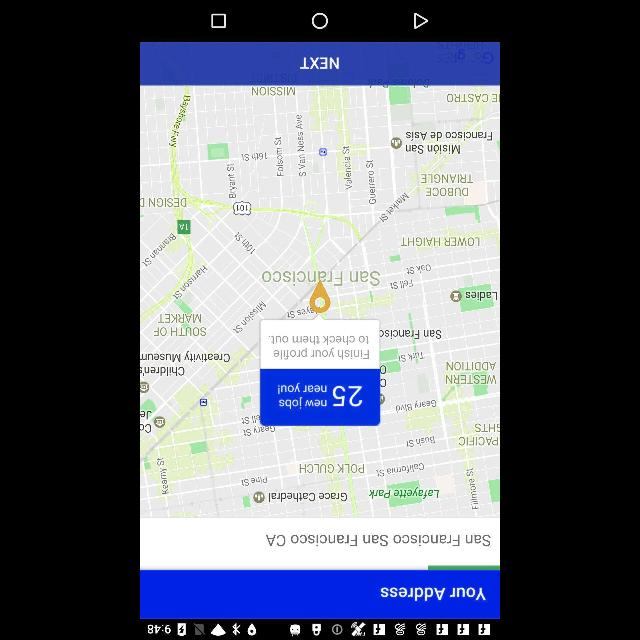icon: (312, 12, 328, 30), (414, 12, 428, 30), (212, 14, 226, 28)
map: (140, 86, 500, 516)
panel: (140, 1, 500, 42)
text: (266, 536, 490, 546), (380, 588, 486, 600), (299, 57, 339, 69)
textbutton: (140, 42, 500, 86)
uppertaskbar: (140, 620, 500, 640)
